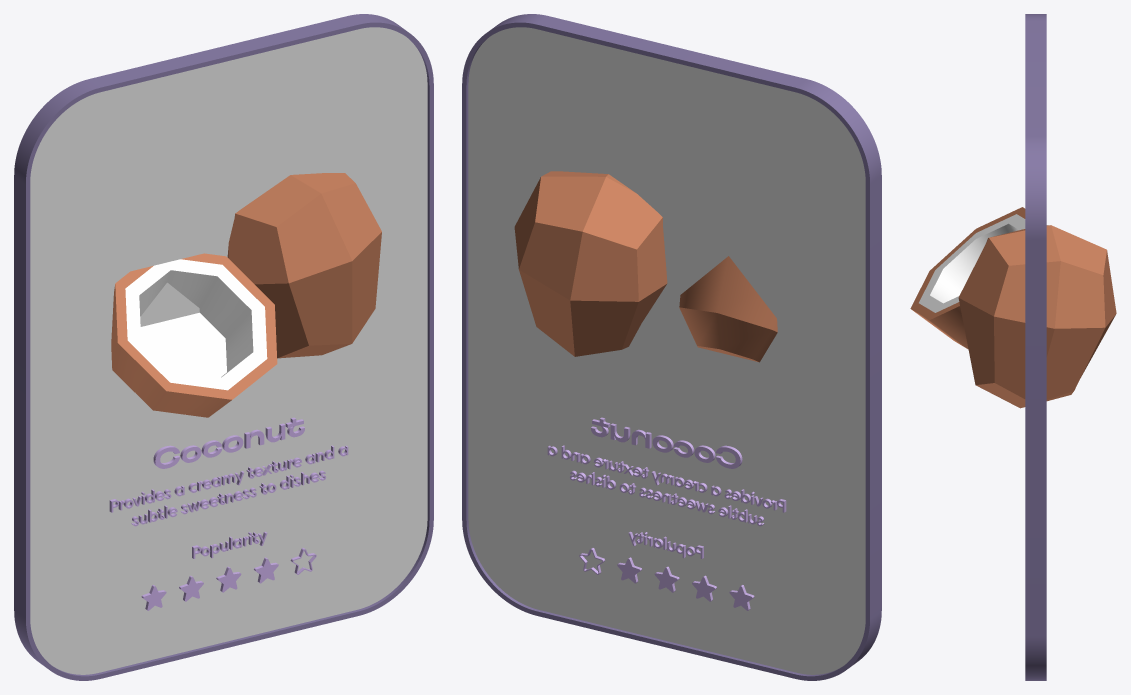
File: coconut.glb
The picture shows the model from 3 angles, left to right: view 1: azimuth 30°, elevation 25°; view 2: azimuth 150°, elevation 25°; view 3: azimuth 270°, elevation 25°; orthographic projection. The views are drawn at different scales.
Parts seen in each view (by area): view 1: Mesh_988.002, CoconutPalmTree.022, Mesh_2378.002, Mesh_1771.002, Mesh_1403.002, Mesh_2646.001; view 2: Mesh_988.002, CoconutPalmTree.022, Mesh_2378.002, Mesh_1771.002, Mesh_1403.002, Mesh_2646.001; view 3: CoconutPalmTree.022, Mesh_2378.002.
Boxes of the visible parts, left/top/right/bottom form: Mesh_988.002: left=30, top=27, right=427, bottom=674; CoconutPalmTree.022: left=111, top=173, right=381, bottom=417; Mesh_2378.002: left=14, top=14, right=433, bottom=680; Mesh_1771.002: left=109, top=445, right=348, bottom=558; Mesh_1403.002: left=153, top=417, right=304, bottom=468; Mesh_2646.001: left=141, top=548, right=316, bottom=610; Mesh_988.002: left=468, top=27, right=865, bottom=674; CoconutPalmTree.022: left=514, top=171, right=777, bottom=362; Mesh_2378.002: left=462, top=14, right=881, bottom=680; Mesh_1771.002: left=547, top=445, right=786, bottom=558; Mesh_1403.002: left=591, top=417, right=742, bottom=468; Mesh_2646.001: left=579, top=548, right=754, bottom=610; CoconutPalmTree.022: left=910, top=207, right=1116, bottom=408; Mesh_2378.002: left=1025, top=14, right=1046, bottom=680.
Size of the model in its own units: 9.06 by 12.55 by 4.36.
